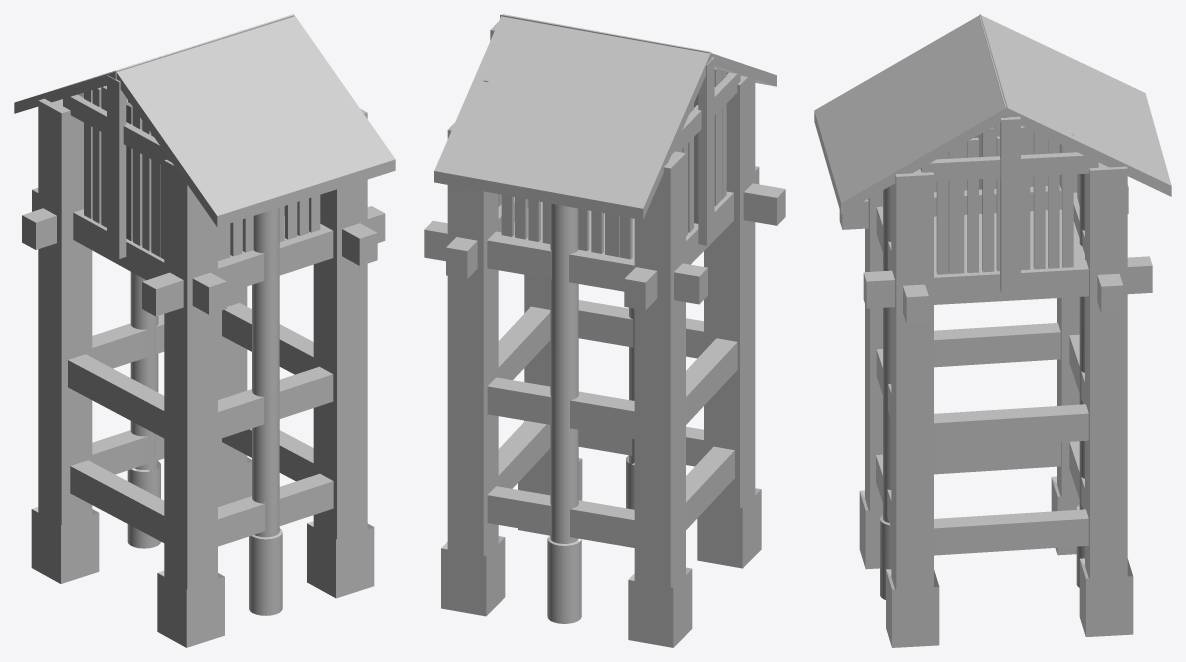
Rendered from watchtower.fbx.
3 renders of one model, left to right at view 1: azimuth 30°, elevation 25°; view 2: azimuth 150°, elevation 25°; view 3: azimuth 270°, elevation 25°, orthographic. The views are drawn at different scales.
Visible parts, largest first — view 1: polySurface107, polySurface79, polySurface82, polySurface99, polySurface62, polySurface100, polySurface75, polySurface74, polySurface81, polySurface85, polySurface80, polySurface97 (+17 smaller); view 2: polySurface108, polySurface82, polySurface80, polySurface79, polySurface97, polySurface78, polySurface83, polySurface101, polySurface99, polySurface106, polySurface85, polySurface75 (+17 smaller); view 3: polySurface107, polySurface99, polySurface80, polySurface108, polySurface73, polySurface76, polySurface84, polySurface79, polySurface75, polySurface104, polySurface82, polySurface103 (+18 smaller).
Boxes of the visible parts, x1,y1,x2,y2 form: polySurface107: (115, 14, 395, 227); polySurface79: (157, 159, 224, 647); polySurface82: (31, 98, 99, 583); polySurface99: (307, 109, 374, 598); polySurface62: (249, 207, 282, 615); polySurface100: (142, 206, 385, 316); polySurface75: (68, 354, 164, 438); polySurface74: (70, 460, 164, 542); polySurface81: (218, 473, 333, 546); polySurface85: (218, 366, 333, 439); polySurface80: (218, 286, 251, 506); polySurface97: (127, 272, 160, 548); polySurface108: (434, 14, 711, 220); polySurface82: (628, 151, 692, 647); polySurface80: (441, 123, 505, 616); polySurface79: (697, 76, 761, 568); polySurface97: (547, 203, 581, 623); polySurface78: (424, 221, 707, 304); polySurface83: (487, 486, 634, 547); polySurface101: (487, 377, 634, 439); polySurface99: (518, 274, 582, 535); polySurface106: (698, 57, 714, 245); polySurface85: (578, 300, 703, 358); polySurface75: (686, 338, 737, 424); polySurface107: (814, 14, 1007, 214); polySurface99: (886, 169, 939, 647); polySurface80: (1079, 162, 1133, 636); polySurface108: (979, 14, 1171, 196); polySurface73: (863, 256, 1152, 308); polySurface76: (934, 404, 1088, 450); polySurface84: (934, 509, 1088, 555); polySurface79: (859, 190, 882, 569); polySurface75: (934, 323, 1060, 367); polySurface104: (1000, 116, 1020, 292); polySurface82: (1051, 144, 1079, 555); polySurface103: (921, 152, 1098, 181).
Bounding box in the file's own units: 434 × 808 × 494.
